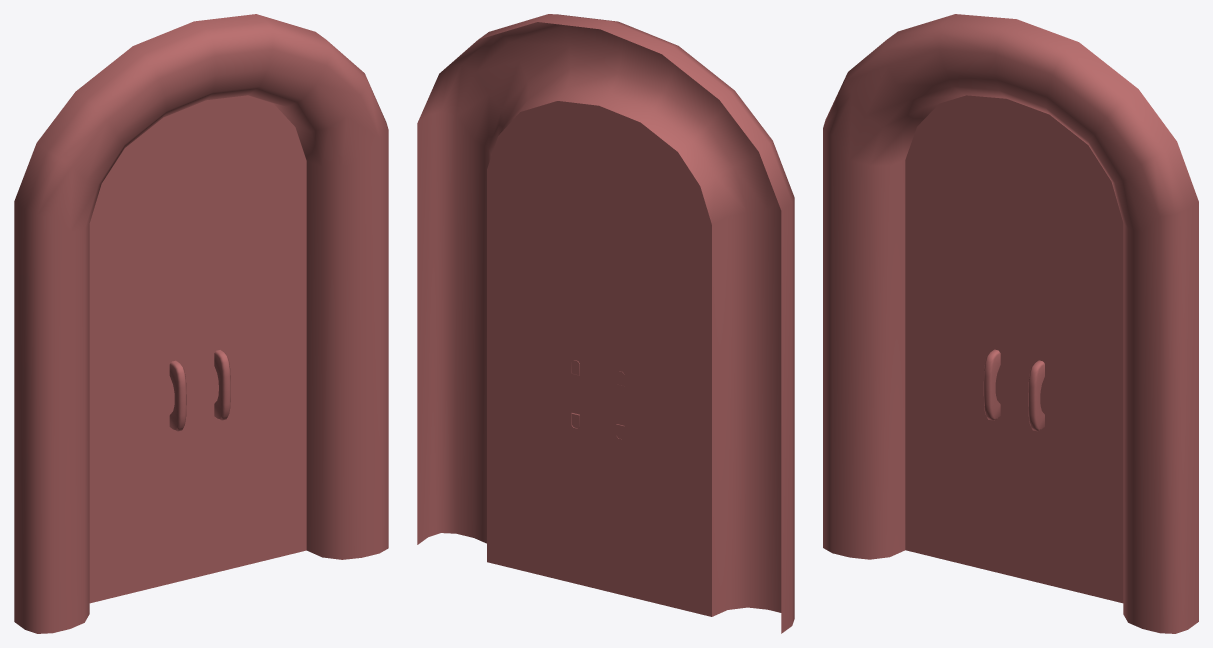
File: Doors_3.fbx
3 renders of one model, left to right at view 1: azimuth 30°, elevation 25°; view 2: azimuth 150°, elevation 25°; view 3: azimuth 330°, elevation 25°, orthographic.
Parts seen in each view (by area): view 1: D_2; view 2: D_2; view 3: D_2.
Part boxes in pixels (bbox=[...]): D_2: bbox=[14, 14, 388, 633]; D_2: bbox=[417, 14, 794, 633]; D_2: bbox=[823, 14, 1198, 633].
Size of the model in its own units: 206 by 303 by 21.37.
